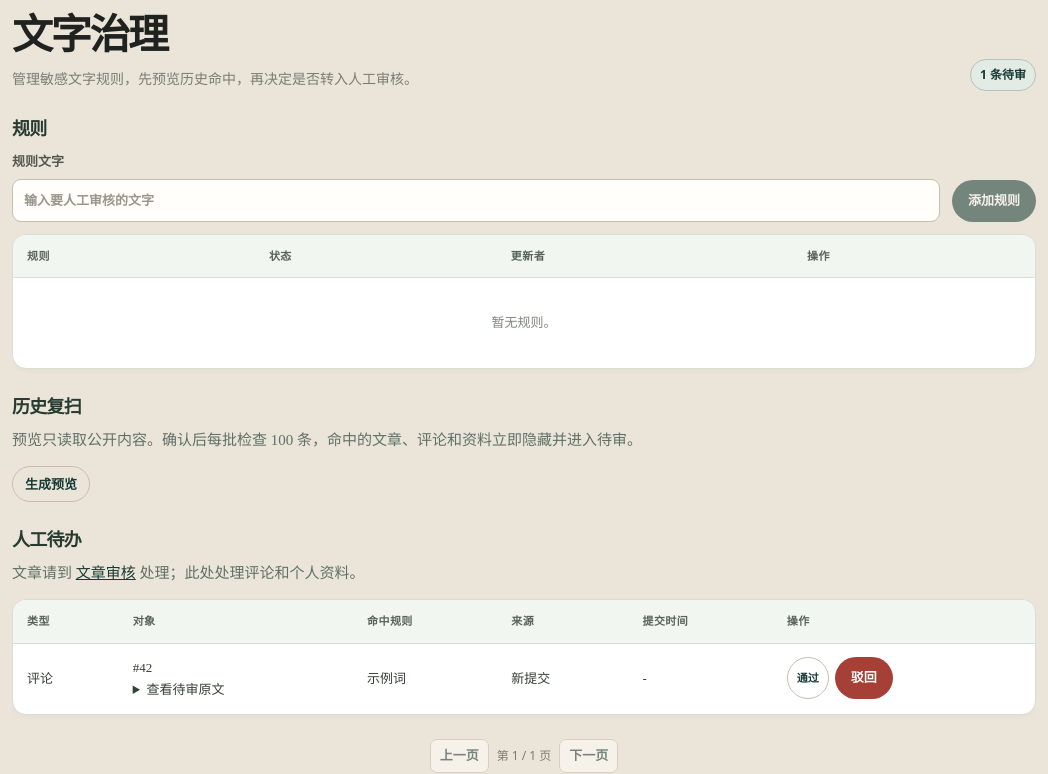
Test: lets the reviewer inspect pending text before deciding
The image size is (1048, 774).
Step 1. Click the heading "查看待审原文" → coordinates (185, 689), box [146,682,224,697]
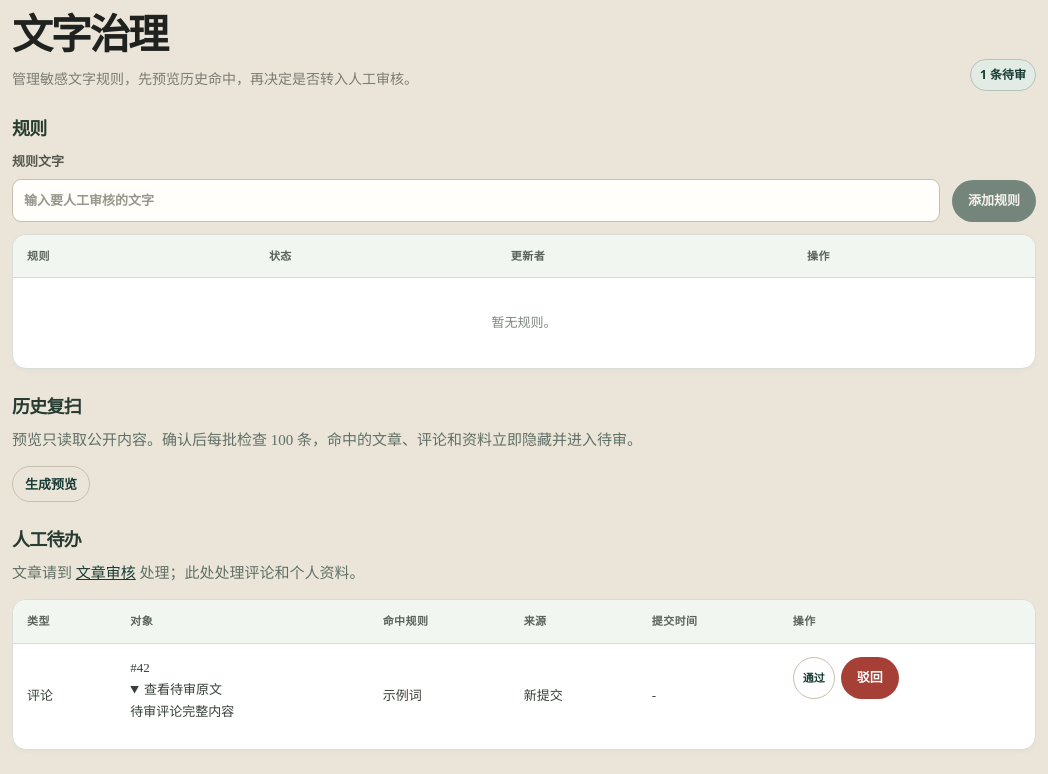
Expected: the text "待审评论完整内容" is shown, [130,704,234,719]
